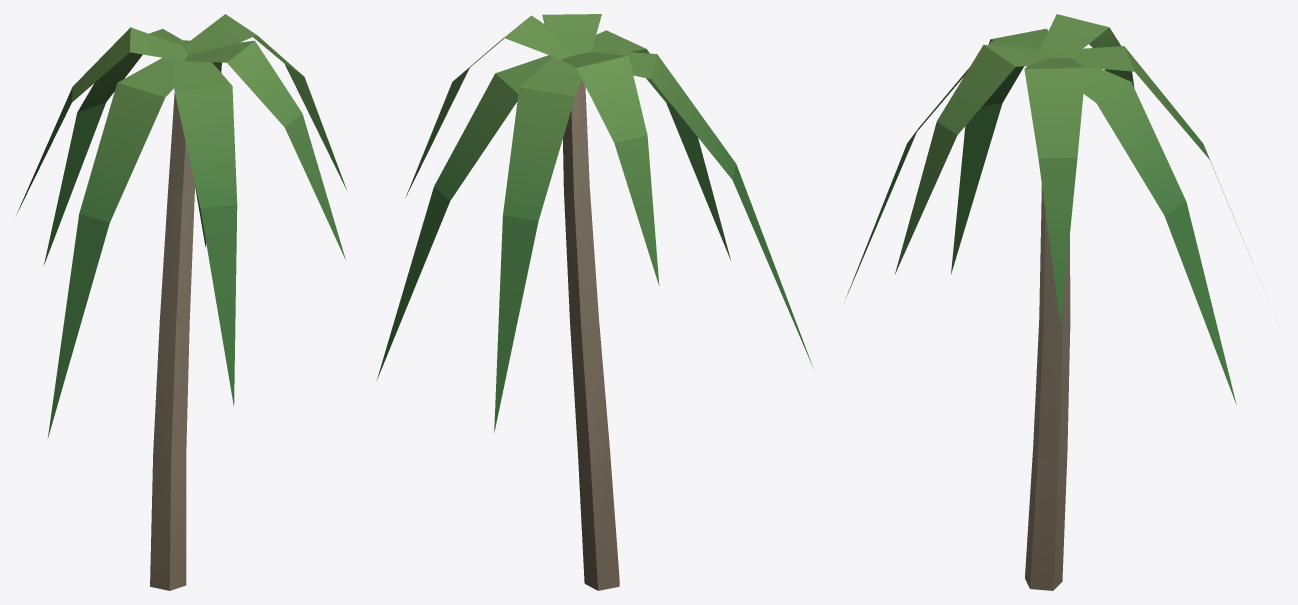
File: tree_palm_lod1.glb
3 views of the same model, side by side, from view 1: azimuth 30°, elevation 25°; view 2: azimuth 150°, elevation 25°; view 3: azimuth 270°, elevation 25° (orthographic). The views are drawn at different scales.
Visible parts, largest first — view 1: tree_palm_lod1; view 2: tree_palm_lod1; view 3: tree_palm_lod1.
Part boxes in pixels (x1,y1,x2,y2): tree_palm_lod1: (16, 14, 346, 590); tree_palm_lod1: (376, 14, 813, 590); tree_palm_lod1: (844, 14, 1250, 590).
Bounding box in the file's own units: 6.15 × 8.94 × 6.43.
